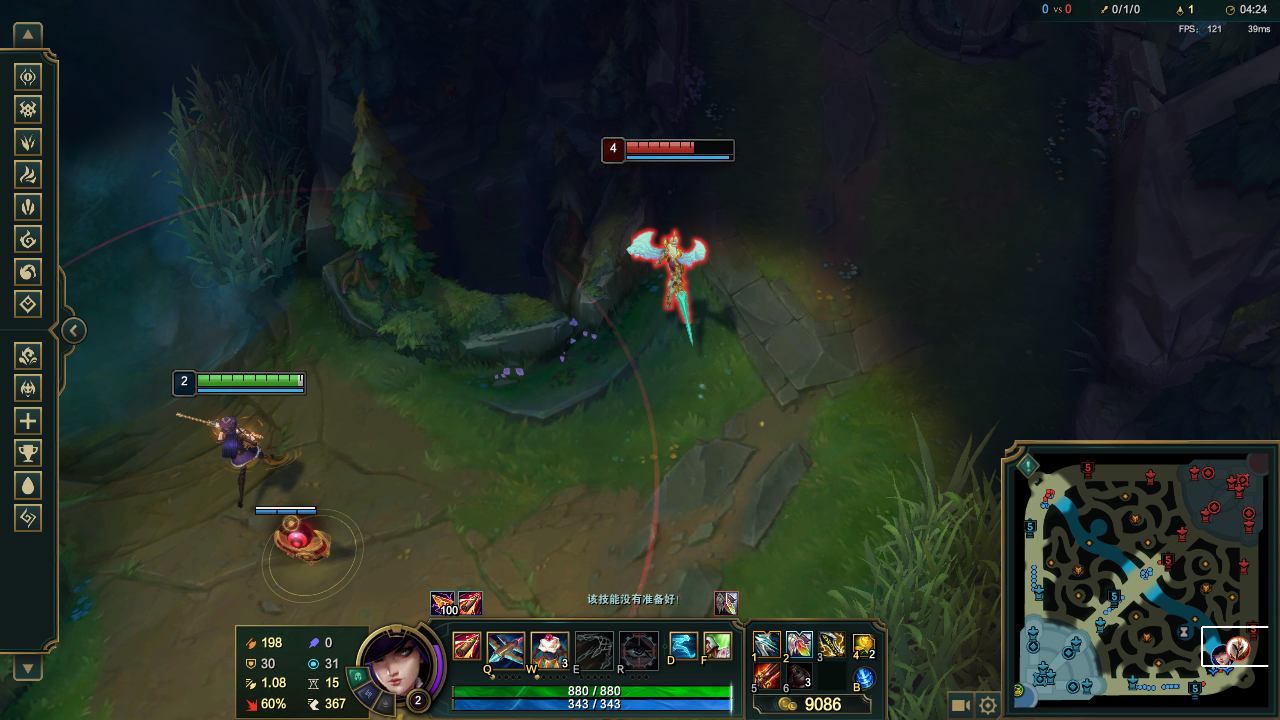DFYX: (624, 137, 735, 156)
